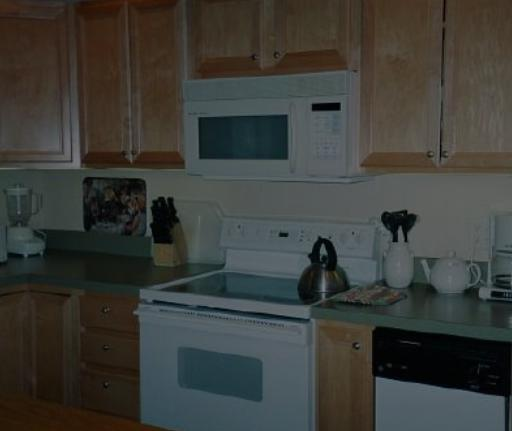Electrodomestico: (143, 285, 312, 431), (380, 323, 510, 431)
